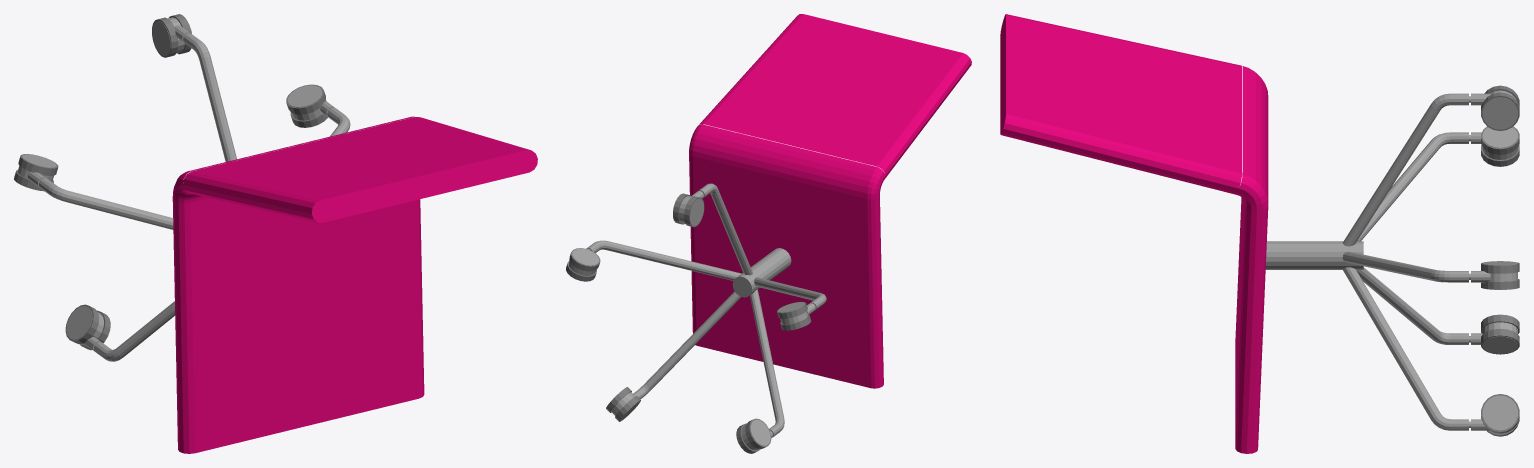
The model's file is Afternoondwgtoglb.glb.
The picture shows the model from 3 angles, left to right: view 1: azimuth 30°, elevation 25°; view 2: azimuth 150°, elevation 25°; view 3: azimuth 270°, elevation 25°; orthographic projection. The views are drawn at different scales.
Visible parts, largest first — view 1: EB1, AD, A9F; view 2: EB1, AD, A9F; view 3: EB1, AD, A9F.
Boxes of the visible parts, box(x1,y1,x2,y2) form: EB1: box(172, 116, 537, 453); AD: box(17, 17, 350, 361); A9F: box(14, 14, 327, 350); EB1: box(689, 14, 971, 388); AD: box(569, 183, 826, 450); A9F: box(566, 193, 811, 453); EB1: box(1000, 14, 1268, 453); AD: box(1265, 90, 1517, 430); A9F: box(1481, 85, 1519, 436).
Bounding box in the file's own units: 13.82 × 14.28 × 20.27.
